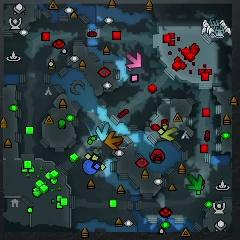p1: (83, 159, 99, 175)
x1: (125, 52, 142, 68)
x2: (160, 124, 177, 142)
x3: (96, 122, 110, 142)
x4: (186, 173, 203, 190)
x5: (105, 131, 122, 148)
